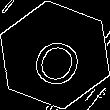O_N: (24, 23, 86, 87)
